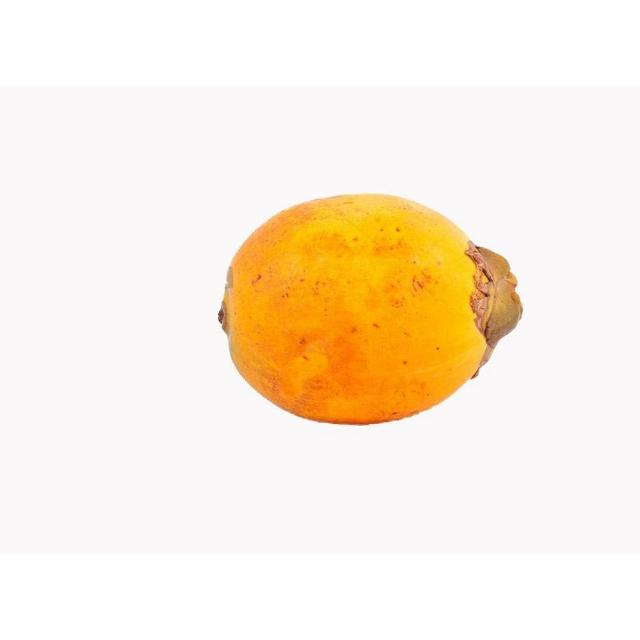good: (217, 194, 523, 428)
